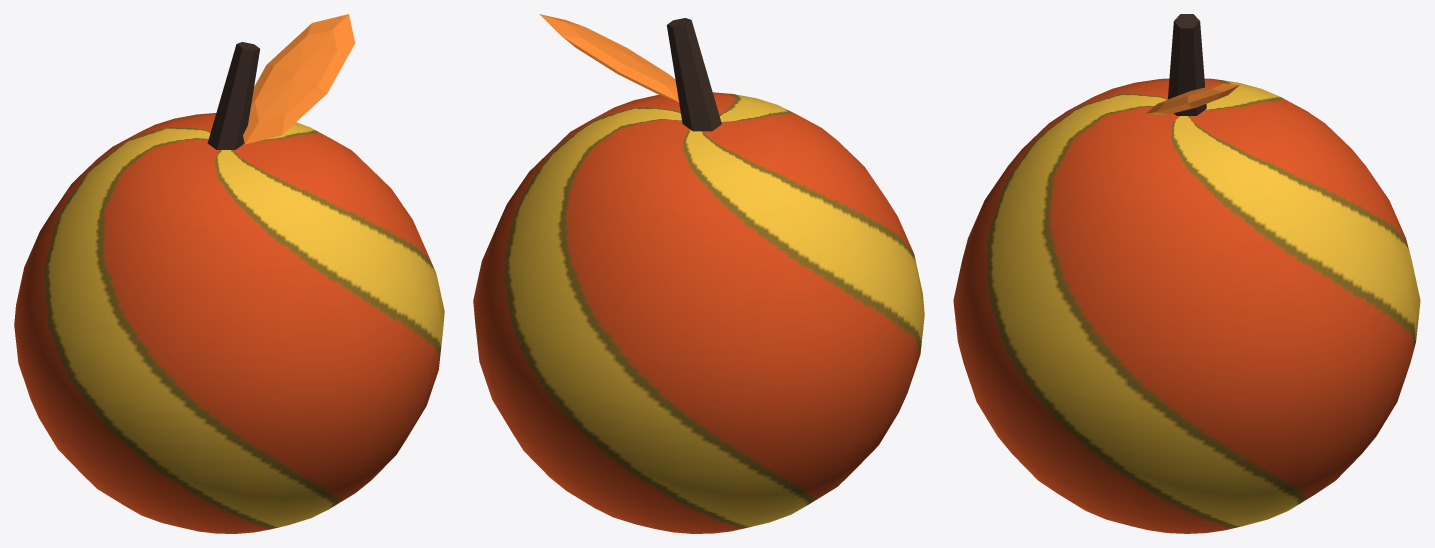
File: Fruit_MeraMera.fbx
3 views of the same model, side by side, from view 1: azimuth 30°, elevation 25°; view 2: azimuth 150°, elevation 25°; view 3: azimuth 270°, elevation 25° (orthographic). The views are drawn at different scales.
Parts seen in each view (by area): view 1: Fruit_MeraMera; view 2: Fruit_MeraMera; view 3: Fruit_MeraMera.
Boxes of the visible parts, box(x1,y1,x2,y2) form: Fruit_MeraMera: box(14, 14, 444, 533); Fruit_MeraMera: box(473, 14, 924, 533); Fruit_MeraMera: box(953, 14, 1420, 533).
Size of the model in its own units: 1.6 by 1.9 by 1.6.
Materials: 1 (1 with a texture image).
